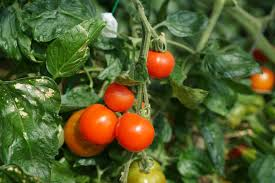tomato: (61, 112, 105, 157), (81, 105, 121, 146), (117, 114, 157, 150), (144, 46, 175, 79), (102, 83, 133, 110)
